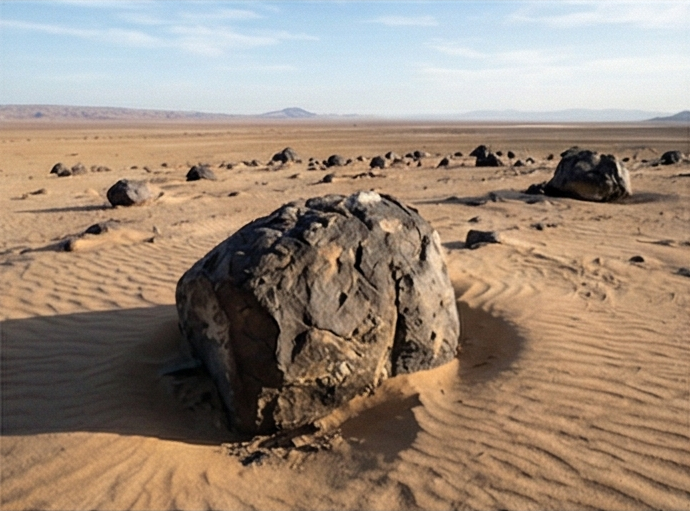rocks: (169, 188, 458, 437), (541, 148, 633, 201), (105, 176, 157, 208), (464, 228, 499, 247), (266, 146, 300, 165), (184, 162, 216, 180), (657, 149, 683, 164), (467, 144, 487, 159), (325, 154, 349, 166), (559, 145, 581, 158), (49, 161, 69, 175), (525, 181, 546, 194), (483, 152, 502, 165), (68, 162, 86, 175), (83, 222, 102, 233), (369, 156, 385, 168), (411, 148, 429, 157), (318, 173, 334, 183), (90, 164, 110, 172), (27, 187, 47, 195), (218, 161, 236, 169), (383, 151, 397, 160), (511, 158, 525, 166), (628, 254, 644, 261), (436, 157, 447, 167), (247, 158, 261, 165), (506, 149, 515, 158)
